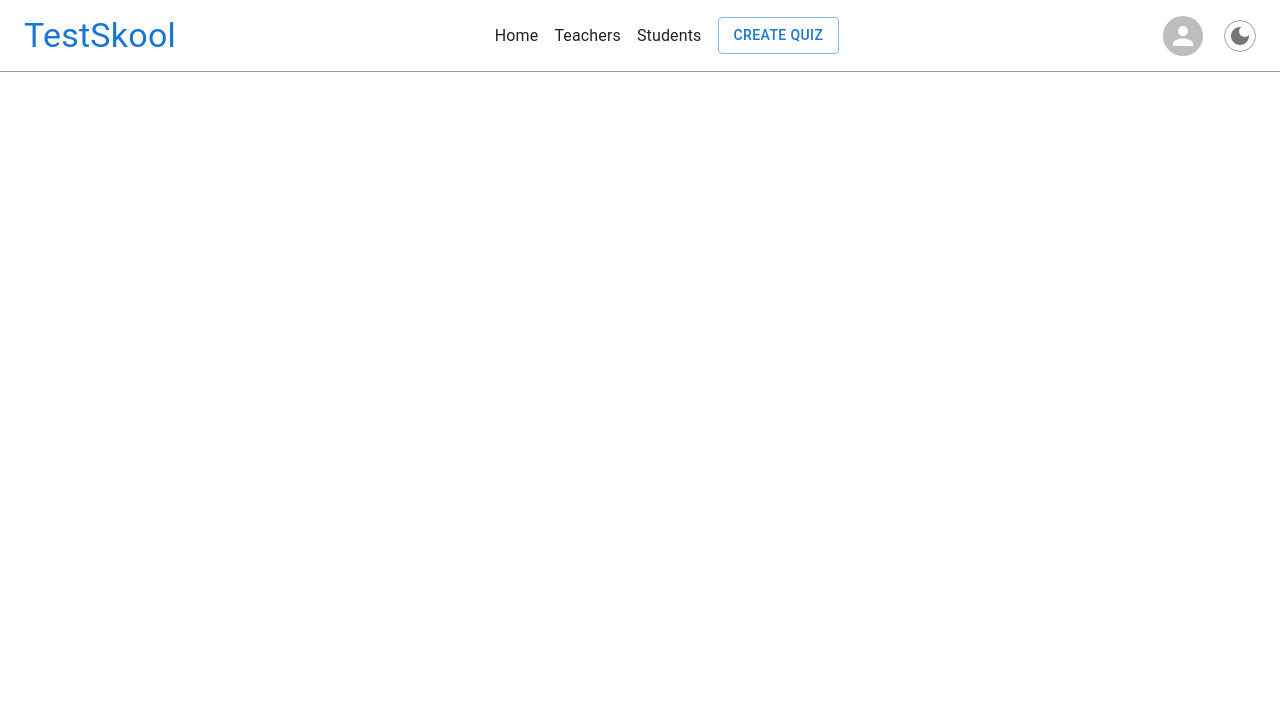
Routing tests with user interaction after request › Should show Looged out message to user when clicked to Logout button.
Note: My Profile
Click the button named "Your Account": (1183, 36) [1158, 10, 1208, 60]
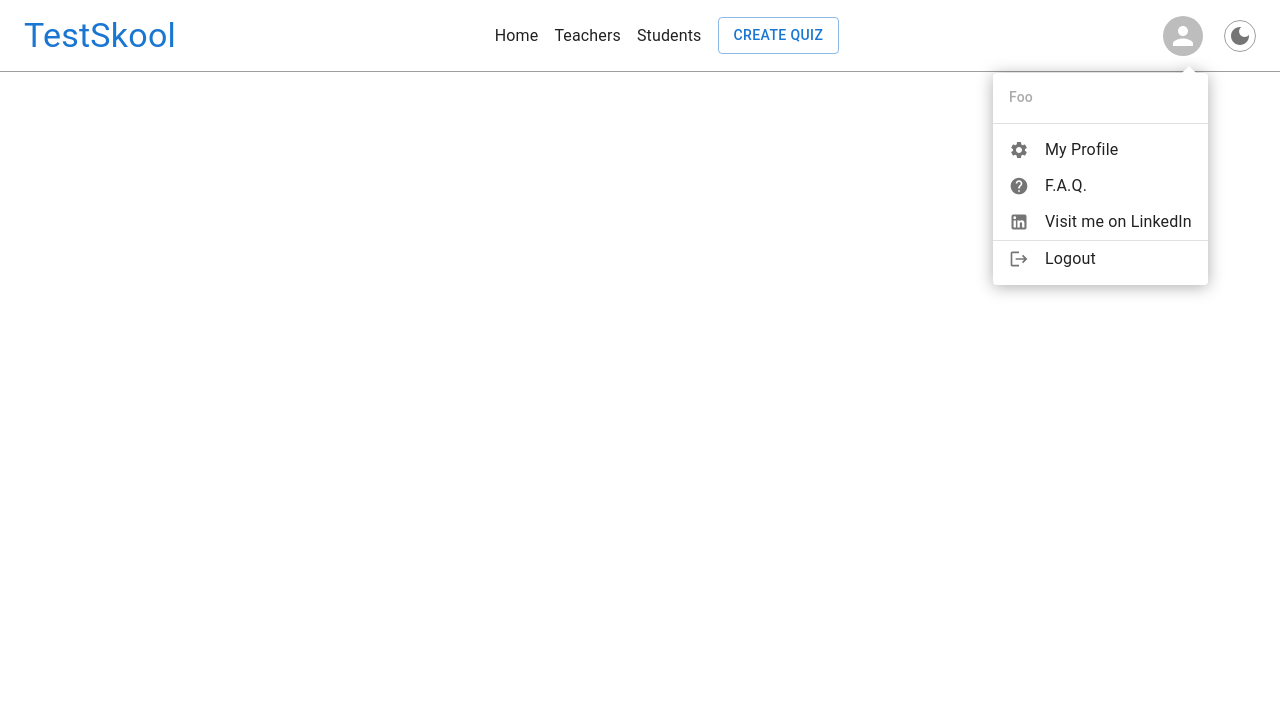
Click the menu item "Logout": (1052, 259) [1009, 249, 1096, 269]
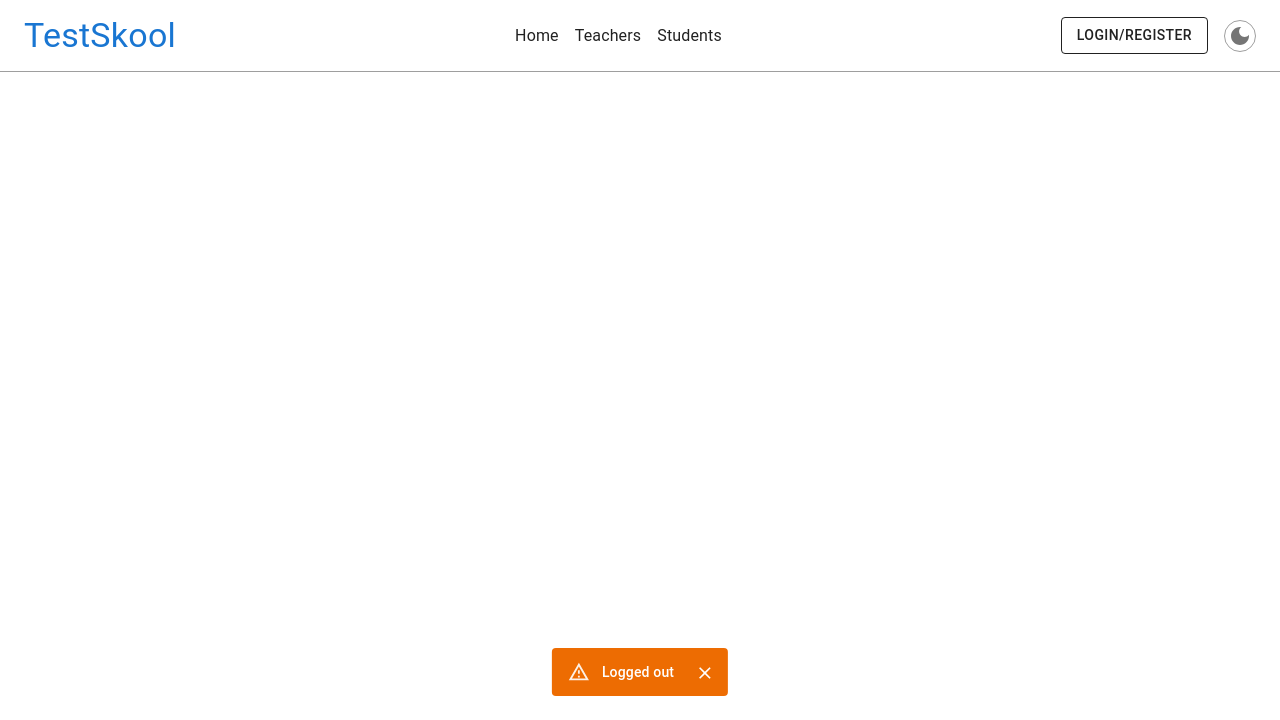
Check: the text "Logged out" is shown, box [602, 664, 674, 680]
